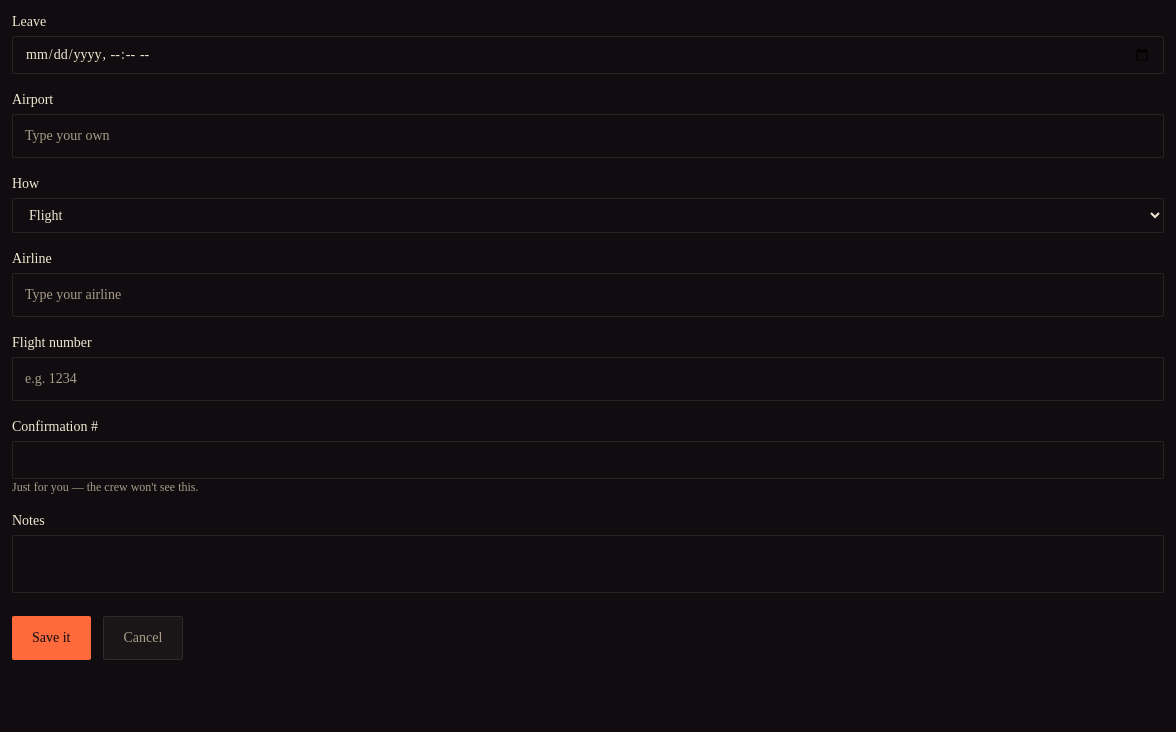
Test: TravelLegForm — required time per direction (#477) › blocks an outbound submit without a departure time
What coordinates should you click on to do the following:
click the button "Save it"
I would click on:
 (51, 638)
Its box is [12,616,90,660].
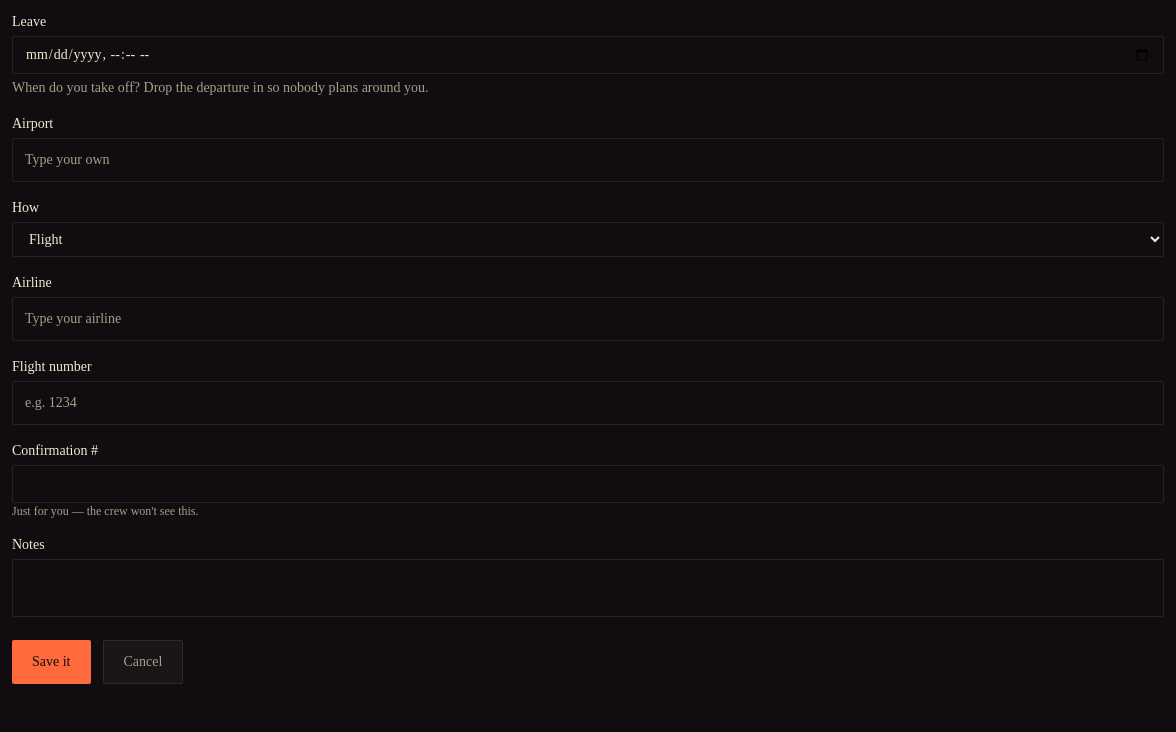
Expected: the text "When do you take off? Drop the departure in so nobody plans around you." is shown, [12,80,428,95]
